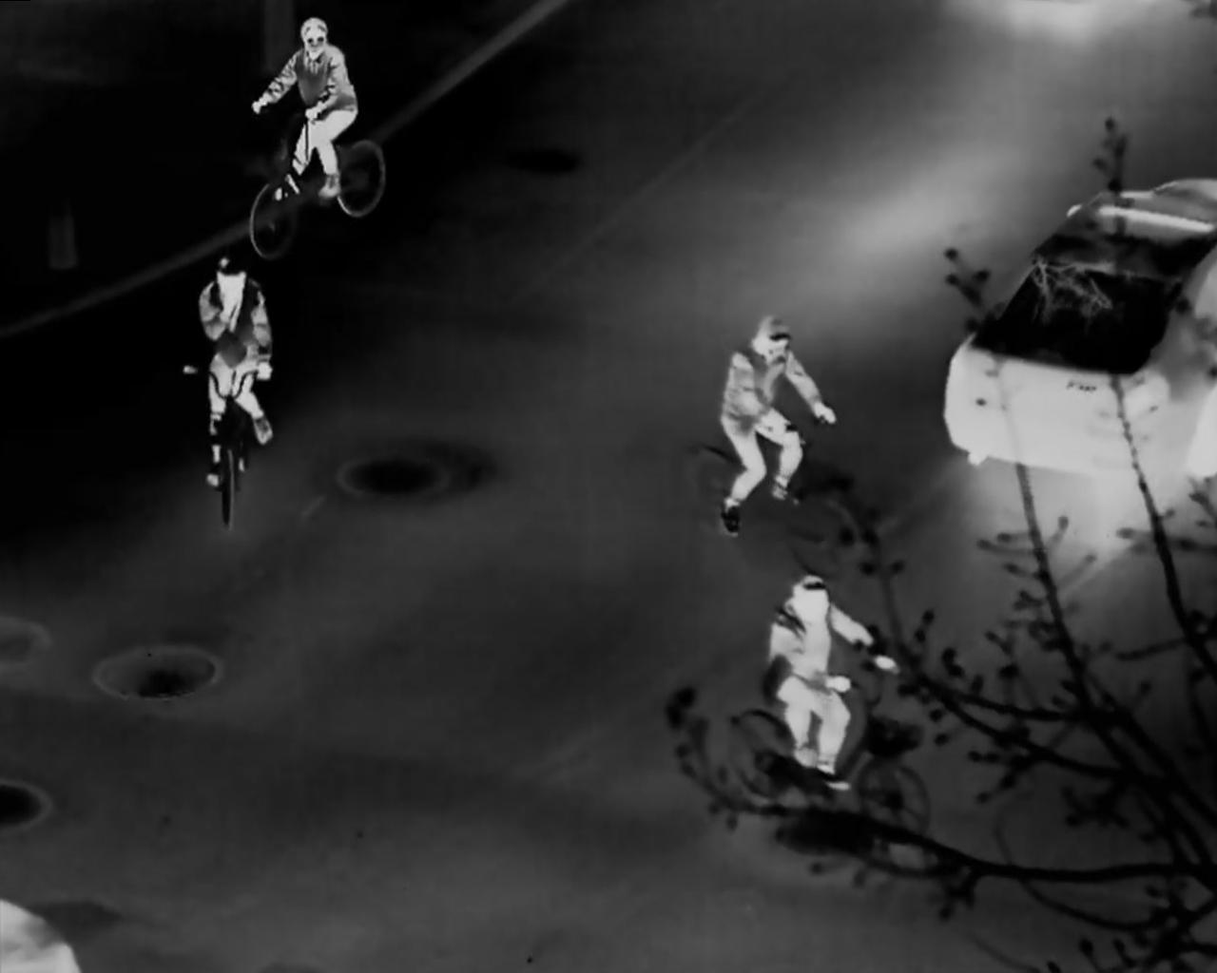person: (763, 567, 895, 802), (722, 314, 825, 513), (250, 22, 353, 190), (199, 258, 276, 461)
